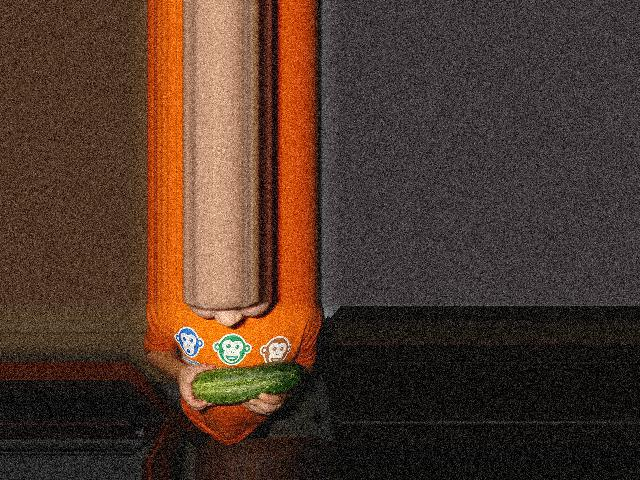cucumber: (191, 361, 305, 404)
